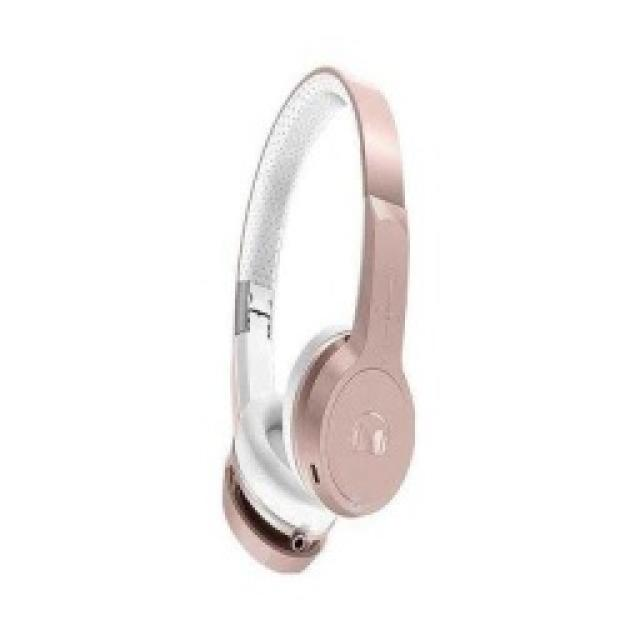headphones: (220, 62, 415, 572)
